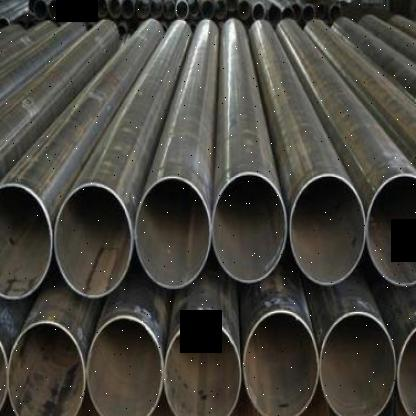pipe: (288, 171, 369, 289), (132, 174, 213, 292), (54, 181, 135, 299), (211, 169, 288, 287), (242, 307, 320, 416), (320, 310, 398, 416), (86, 314, 165, 416), (6, 317, 86, 416), (164, 315, 242, 416), (0, 180, 53, 301), (367, 174, 416, 288), (396, 314, 416, 416), (0, 315, 9, 416)
